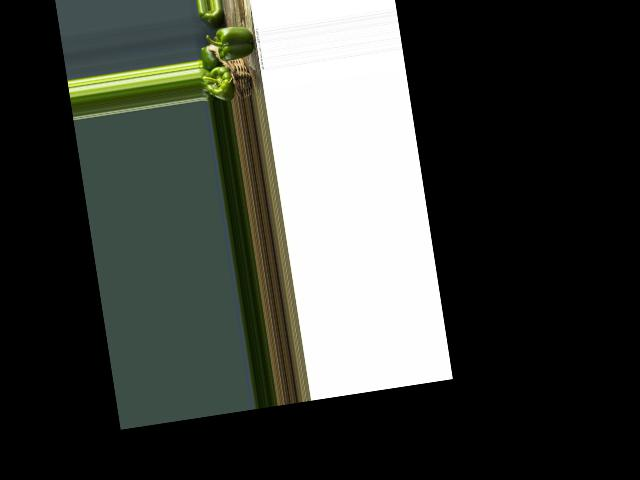bell_pepper: (198, 8, 221, 24)
